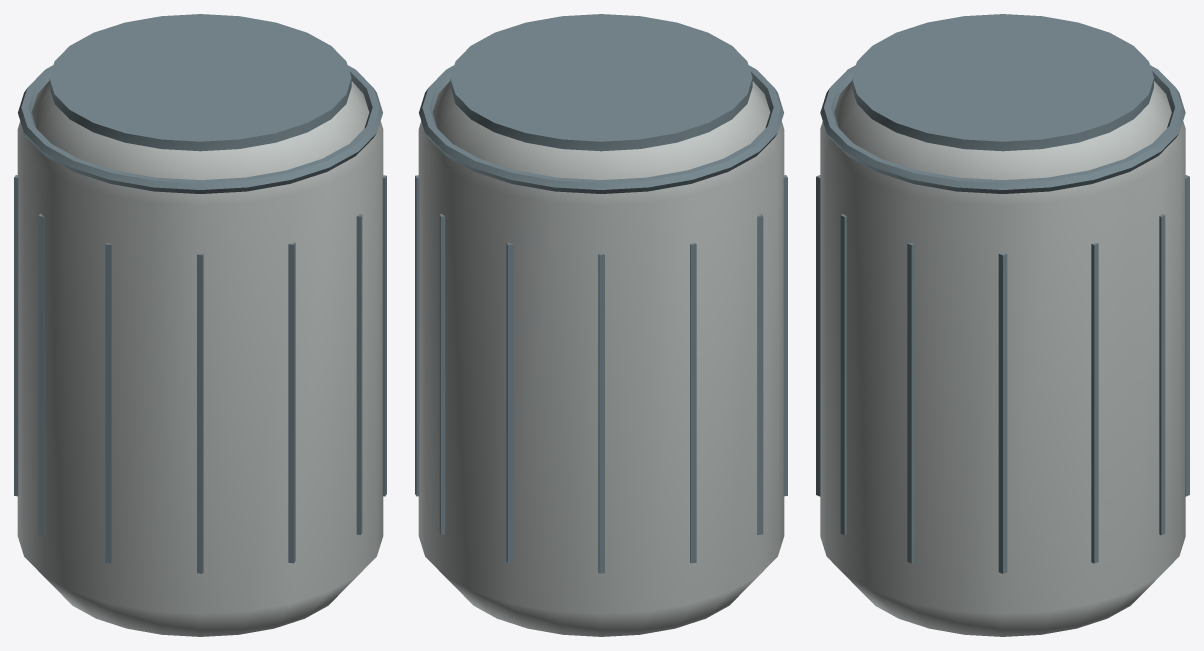
File: smart-speaker.glb
The picture shows the model from 3 angles, left to right: view 1: azimuth 30°, elevation 25°; view 2: azimuth 150°, elevation 25°; view 3: azimuth 270°, elevation 25°; orthographic projection.
Parts seen in each view (by area): view 1: speaker_shell, touch_top, top_light_band, woven_grille_seam.003, woven_grille_seam.004, woven_grille_seam.005, woven_grille_seam.006, woven_grille_seam.002, woven_grille_seam.001, woven_grille_seam.007; view 2: speaker_shell, touch_top, top_light_band, woven_grille_seam.009, woven_grille_seam.008, woven_grille_seam.006, woven_grille_seam.007, woven_grille_seam.010, woven_grille_seam.011, woven_grille_seam.005; view 3: speaker_shell, touch_top, top_light_band, woven_grille_seam, woven_grille_seam.001, woven_grille_seam.011, woven_grille_seam.002, woven_grille_seam.010, woven_grille_seam.003, woven_grille_seam.009.
Boxes of the visible parts, <box> form: speaker_shell: <box>17,81,383,636</box>; touch_top: <box>49,14,351,151</box>; top_light_band: <box>18,65,382,193</box>; woven_grille_seam.003: <box>288,242,295,563</box>; woven_grille_seam.004: <box>197,253,203,573</box>; woven_grille_seam.005: <box>105,242,111,563</box>; woven_grille_seam.006: <box>38,213,44,534</box>; woven_grille_seam.002: <box>356,214,362,534</box>; woven_grille_seam.001: <box>382,175,386,496</box>; woven_grille_seam.007: <box>14,175,18,496</box>; speaker_shell: <box>418,81,784,636</box>; touch_top: <box>450,14,752,151</box>; top_light_band: <box>419,65,783,193</box>; woven_grille_seam.009: <box>506,242,513,563</box>; woven_grille_seam.008: <box>598,253,604,573</box>; woven_grille_seam.006: <box>757,213,763,534</box>; woven_grille_seam.007: <box>690,242,696,563</box>; woven_grille_seam.010: <box>439,214,445,534</box>; woven_grille_seam.011: <box>415,175,419,496</box>; woven_grille_seam.005: <box>783,175,787,496</box>; speaker_shell: <box>820,81,1185,636</box>; touch_top: <box>852,14,1153,151</box>; top_light_band: <box>820,65,1185,193</box>; woven_grille_seam: <box>998,253,1007,573</box>; woven_grille_seam.001: <box>907,242,914,563</box>; woven_grille_seam.011: <box>1091,242,1098,563</box>; woven_grille_seam.002: <box>840,214,846,535</box>; woven_grille_seam.010: <box>1159,214,1165,535</box>; woven_grille_seam.003: <box>816,175,820,496</box>; woven_grille_seam.009: <box>1185,175,1189,496</box>.
Size of the model in its own units: 0.1064 by 0.156 by 0.1064.
